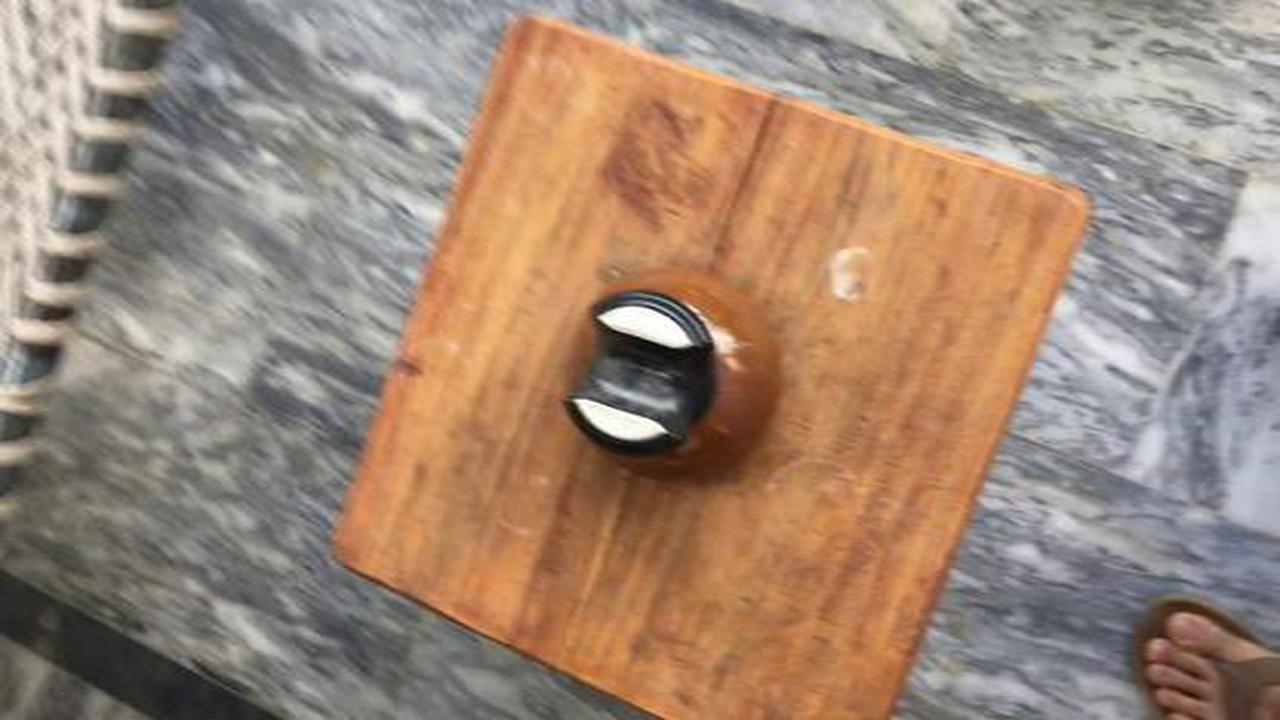insulator_pin: (533, 258, 810, 501)
